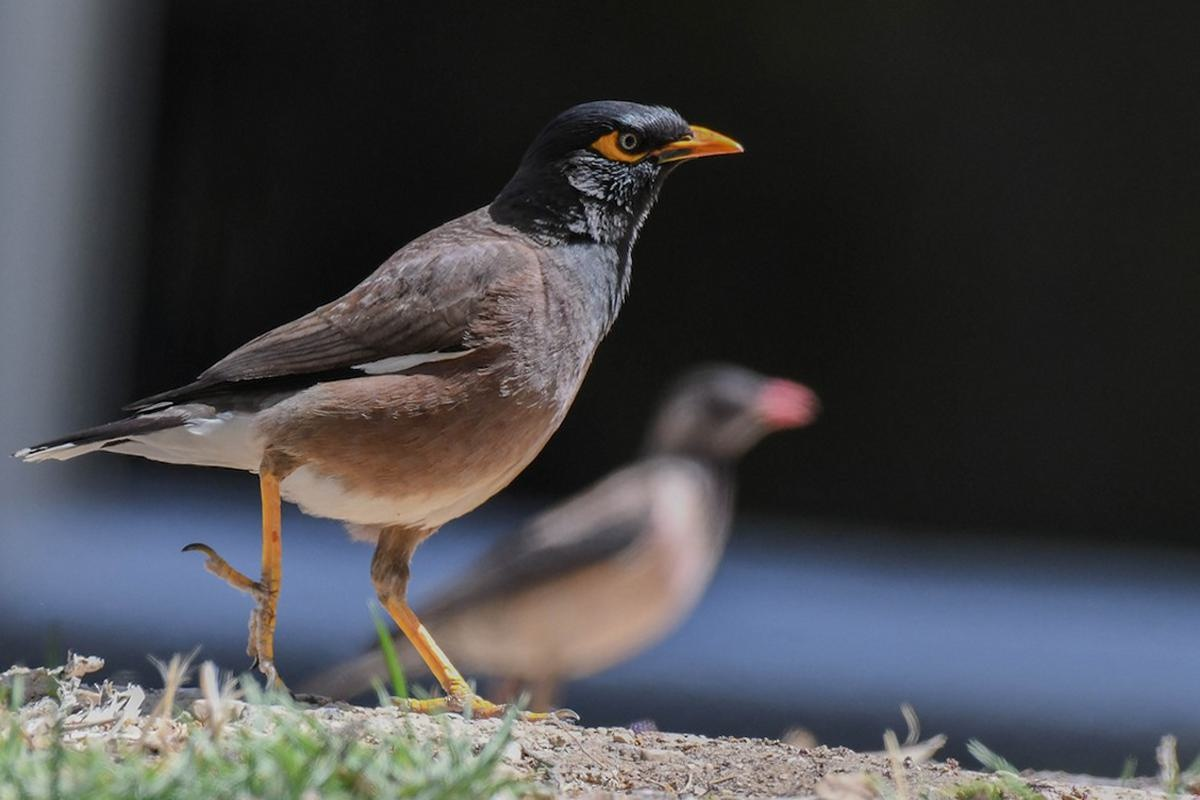myna: (44, 80, 761, 681)
